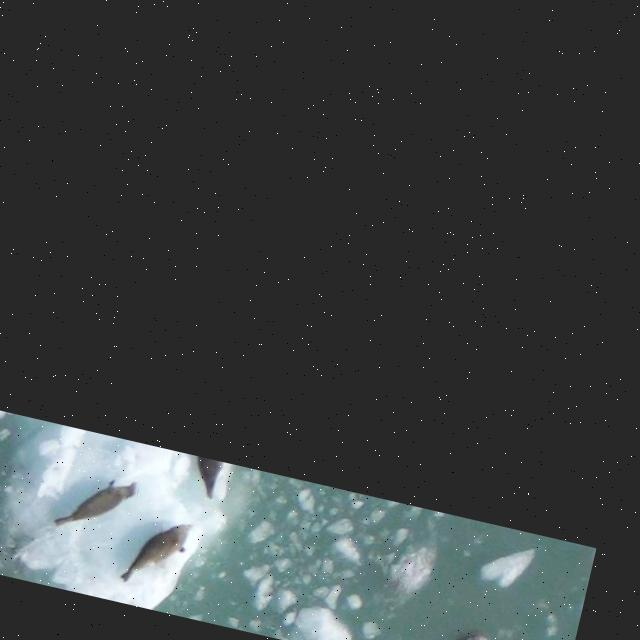seal: (108, 515, 203, 586), (51, 468, 145, 538)
